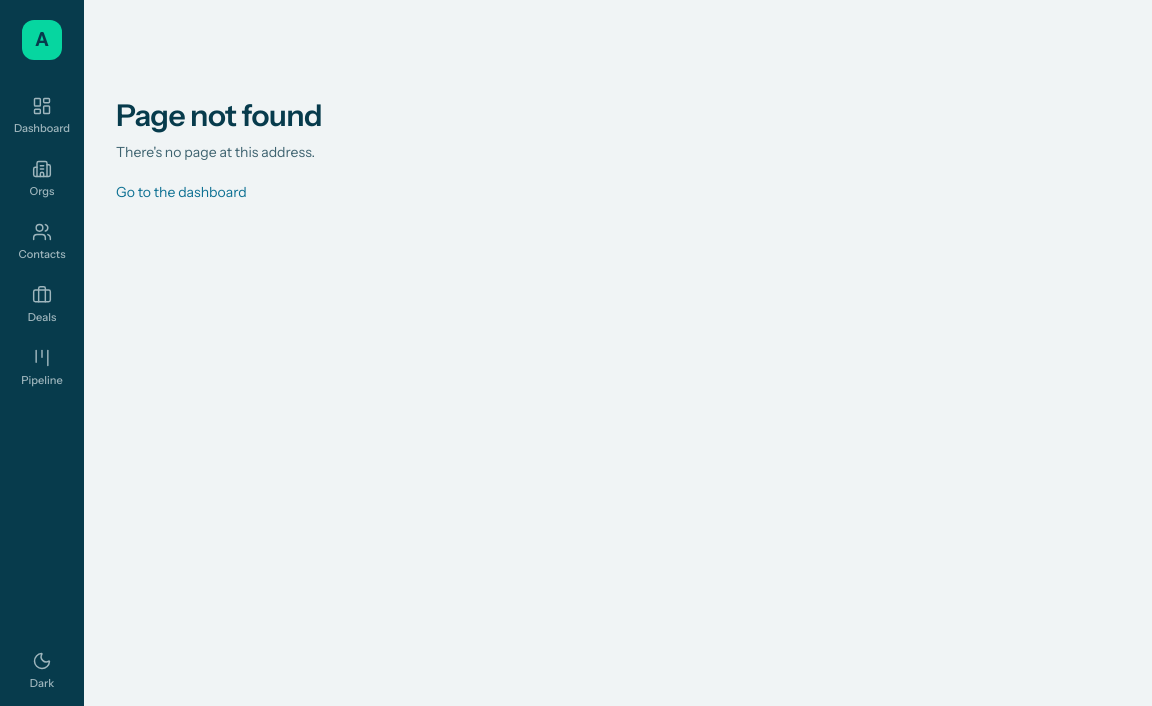
Scenario: App › says when there's no page at an address, and links back to the dashboard
Check: the heading "Page not found" is shown, box [116, 94, 322, 138]
Check: the text "There's no page at this address." is shown, box [116, 142, 322, 162]
Click the link "Go to the dashboard": [181, 192] box [116, 183, 247, 201]
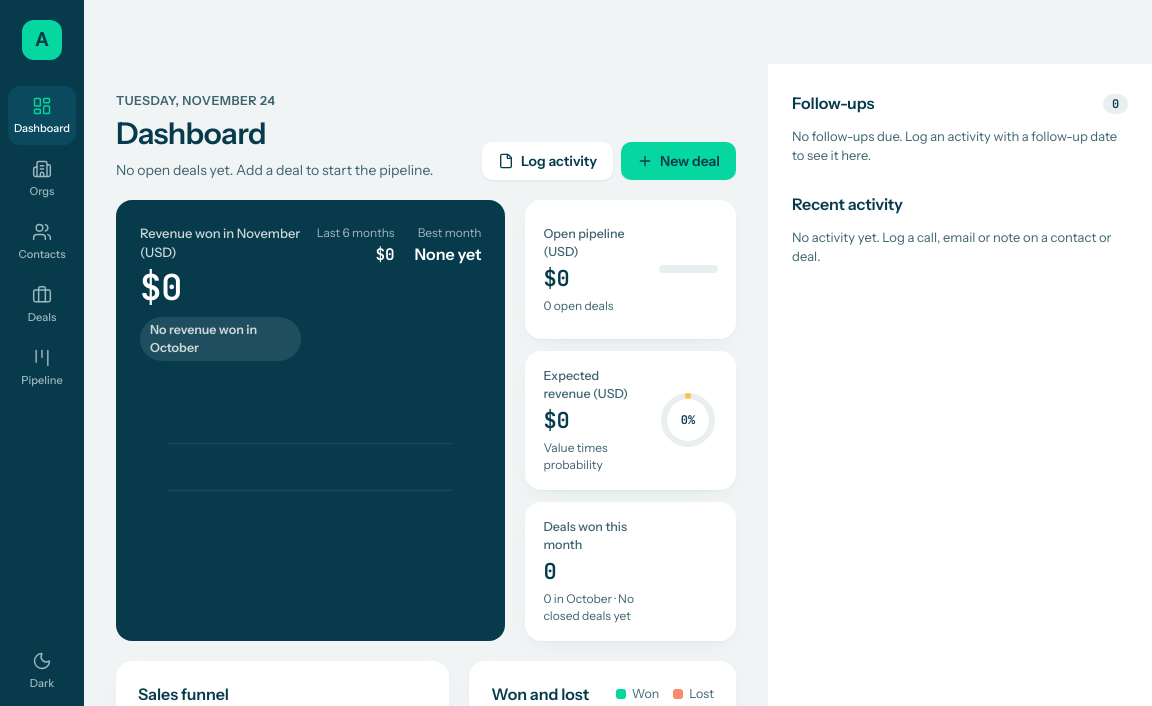
Check: the heading "Dashboard" is shown, box [116, 115, 266, 152]
